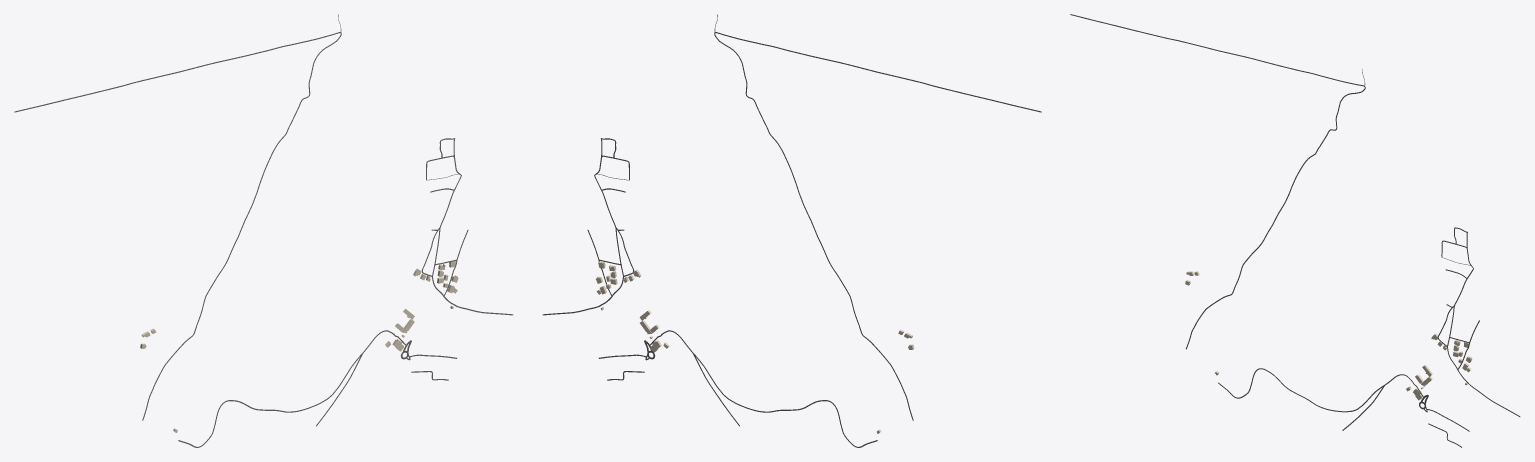
The model's file is irbid_3593_3261.glb.
3 views of the same model, side by side, from view 1: azimuth 30°, elevation 25°; view 2: azimuth 150°, elevation 25°; view 3: azimuth 330°, elevation 25° (orthographic). The views are drawn at different scales.
Parts seen in each view (by area): view 1: Road .009, Road .008, Road .010; view 2: Road .009, Road .008, Road .010; view 3: Road .009, Road .008.
Boxes of the visible parts, x1,y1,x2,y2 form: Road .009: (142, 33, 341, 420); Road .008: (14, 32, 340, 112); Road .010: (178, 330, 406, 447); Road .009: (714, 33, 913, 420); Road .008: (715, 32, 1041, 112); Road .010: (649, 330, 877, 447); Road .009: (1185, 87, 1365, 349); Road .008: (1070, 14, 1364, 86).
Bounding box in the file's own units: 1464 × 1142 × 8.7.
